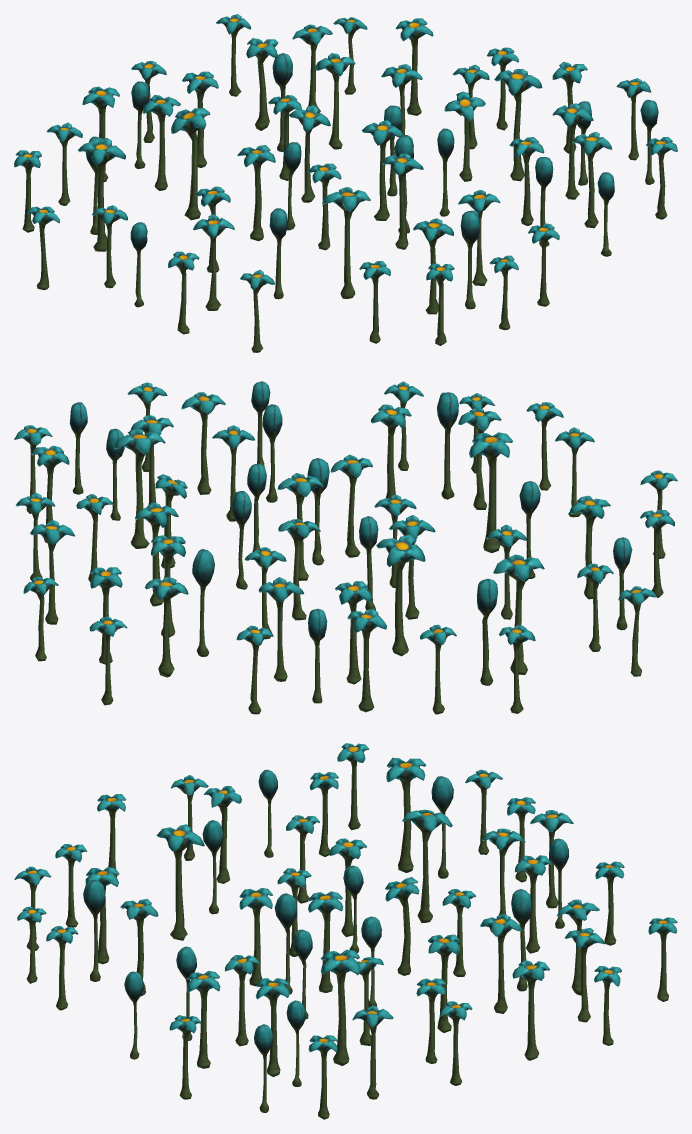
File: Glowing_Flower_Group_02.fbx
3 renders of one model, top to bottom at view 1: azimuth 30°, elevation 25°; view 2: azimuth 150°, elevation 25°; view 3: azimuth 270°, elevation 25°, orthographic. The views are drawn at different scales.
Parts seen in each view (by area): view 1: Glowing_Flower_Group_02_LOD0; view 2: Glowing_Flower_Group_02_LOD0; view 3: Glowing_Flower_Group_02_LOD0.
Boxes of the visible parts, x1,y1,x2,y2 form: Glowing_Flower_Group_02_LOD0: (14,14,677,352); Glowing_Flower_Group_02_LOD0: (14,381,677,714); Glowing_Flower_Group_02_LOD0: (14,743,677,1119).
Size of what is drawn, in the model's own units: 1.56 by 0.2687 by 1.44.
